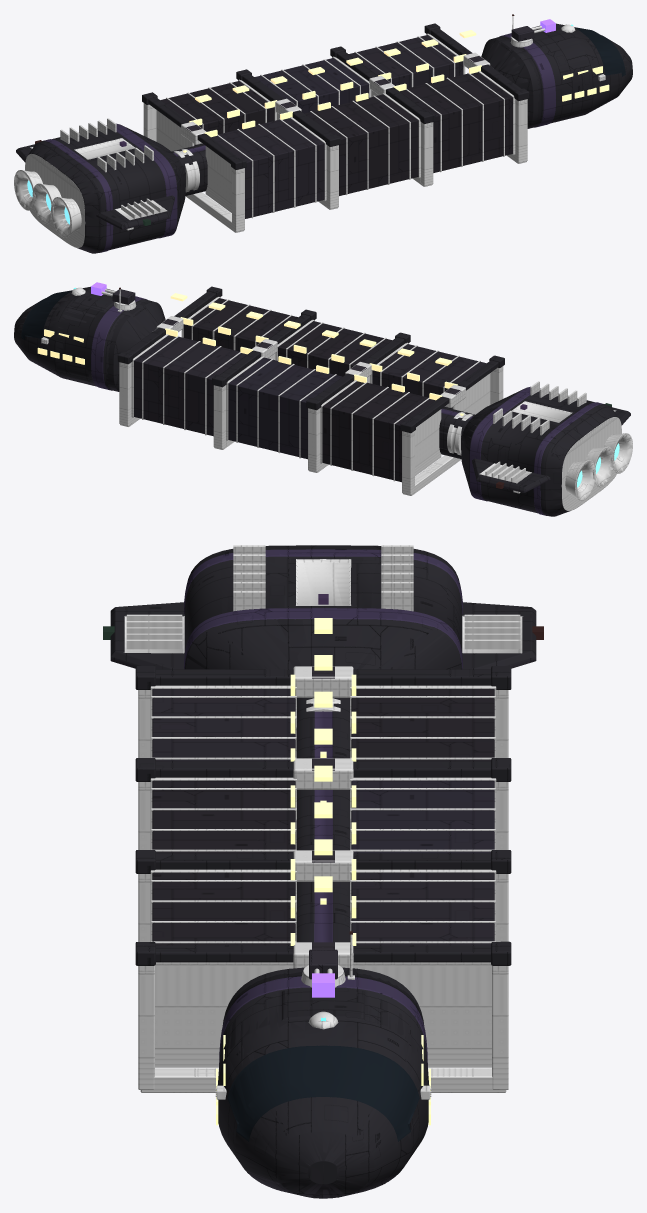
The model's file is place_quiessence_freighter_b.glb.
3 views of the same model, one above another, from view 1: azimuth 30°, elevation 25°; view 2: azimuth 150°, elevation 25°; view 3: azimuth 270°, elevation 25° (orthographic). The views are drawn at different scales.
Visible parts, largest first — view 1: LOD0_Armor_box, LOD0_Hull, LOD0_Mechanical, LOD0_Armor_b, LOD1_Hull, LOD0_MechanicalDark, LOD2_Hull, LOD0_Armor_teal, LOD1_Mechanical, LOD0_Livery, LOD0_Lights_Warm, LOD2_MechanicalDark (+7 smaller); view 2: LOD0_Hull, LOD0_Armor_box, LOD0_Mechanical, LOD0_Armor_b, LOD0_Armor_teal, LOD1_Hull, LOD0_MechanicalDark, LOD2_Hull, LOD1_Mechanical, LOD0_Livery, LOD0_Lights_Warm, LOD2_MechanicalDark (+7 smaller); view 3: LOD0_Hull, LOD0_Mechanical, LOD0_Armor_box, LOD0_MechanicalDark, LOD0_Armor_b, LOD1_Hull, LOD2_Hull, LOD1_Mechanical, LOD0_Armor_teal, LOD1_CANOPY, LOD0_Livery, LOD0_Lights_Warm (+7 smaller).
Boxes of the visible parts, x1,y1,x2,y2 form: LOD0_Armor_box: [160, 72, 512, 195]; LOD0_Hull: [16, 23, 632, 250]; LOD0_Mechanical: [14, 16, 605, 237]; LOD0_Armor_b: [211, 35, 463, 218]; LOD1_Hull: [16, 24, 632, 247]; LOD0_MechanicalDark: [14, 33, 604, 247]; LOD2_Hull: [22, 23, 632, 250]; LOD0_Armor_teal: [254, 58, 368, 113]; LOD1_Mechanical: [17, 16, 571, 237]; LOD0_Livery: [43, 33, 555, 252]; LOD0_Lights_Warm: [183, 30, 609, 152]; LOD2_MechanicalDark: [14, 138, 196, 236]; LOD0_Hull: [14, 286, 630, 513]; LOD0_Armor_box: [183, 298, 435, 482]; LOD0_Mechanical: [41, 287, 632, 500]; LOD0_Armor_b: [134, 335, 486, 436]; LOD0_Armor_teal: [228, 357, 342, 459]; LOD1_Hull: [14, 287, 628, 513]; LOD0_MechanicalDark: [42, 297, 632, 510]; LOD2_Hull: [14, 286, 627, 513]; LOD1_Mechanical: [72, 287, 632, 497]; LOD0_Livery: [91, 296, 604, 515]; LOD0_Lights_Warm: [37, 293, 463, 415]; LOD2_MechanicalDark: [450, 401, 632, 499]; LOD0_Hull: [110, 545, 536, 1195]; LOD0_Mechanical: [126, 545, 520, 1099]; LOD0_Armor_box: [152, 689, 494, 945]; LOD0_MechanicalDark: [150, 559, 496, 1096]; LOD0_Armor_b: [152, 689, 494, 945]; LOD1_Hull: [111, 545, 535, 1195]; LOD2_Hull: [111, 545, 531, 1197]; LOD1_Mechanical: [126, 545, 520, 1092]; LOD0_Armor_teal: [351, 780, 494, 853]; LOD1_CANOPY: [227, 1045, 419, 1141]; LOD0_Livery: [184, 549, 462, 1067]; LOD0_Lights_Warm: [216, 618, 430, 1125].
Size of what is drawn, in the model's own units: 29.22 by 5.14 by 9.52.
Materials: 17 (9 with a texture image).
